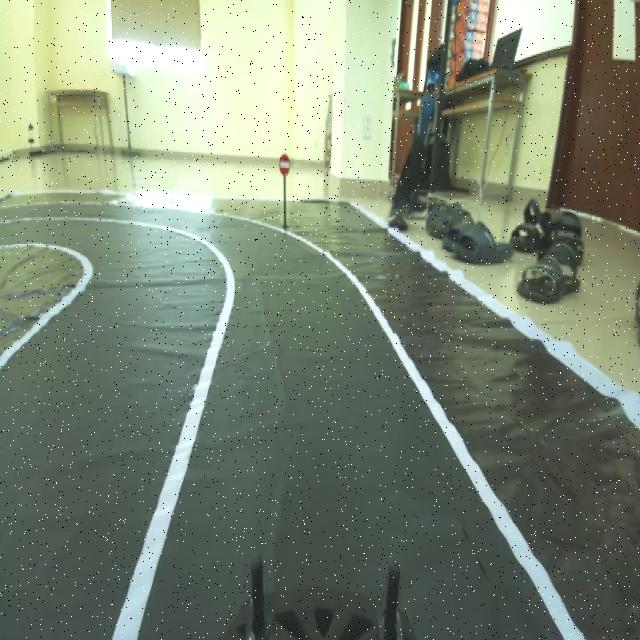no_entry: (277, 142, 295, 180)
